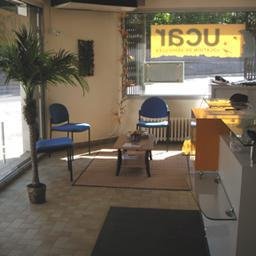Matera: (6, 42, 74, 207)
Ventana: (124, 16, 250, 98)
